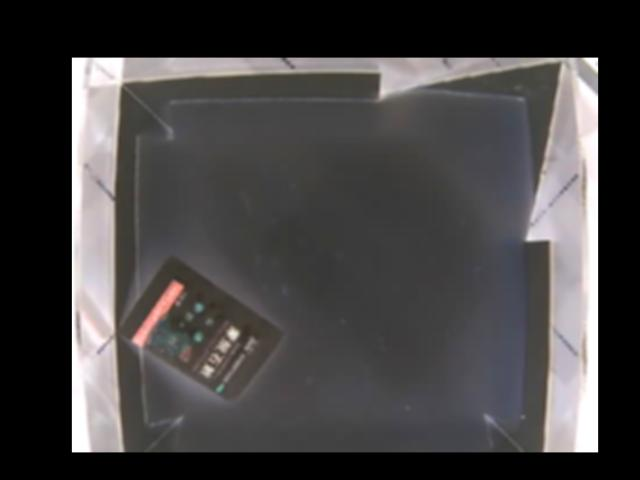Medicine: (121, 256, 284, 403)
